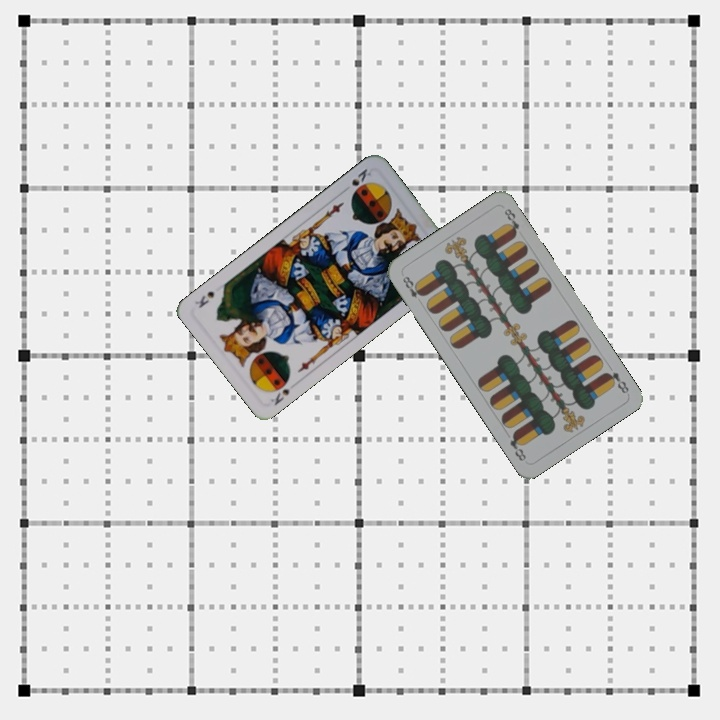E8: (398, 271, 427, 301), (600, 368, 631, 396)
SK: (347, 164, 375, 196), (266, 385, 293, 408)
